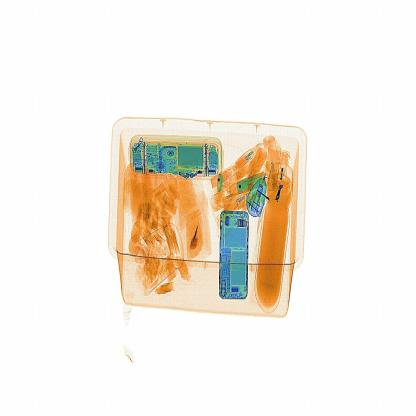wrench: (187, 221, 204, 258)
